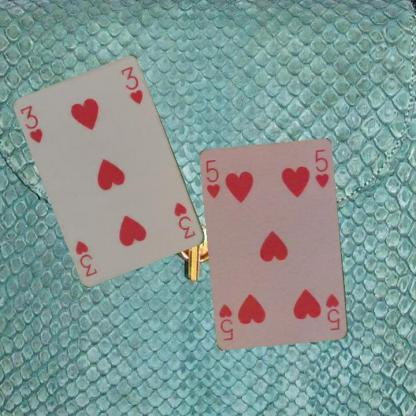3h: (18, 103, 44, 146), (172, 200, 198, 241)
5h: (203, 157, 222, 200), (324, 291, 342, 332)
